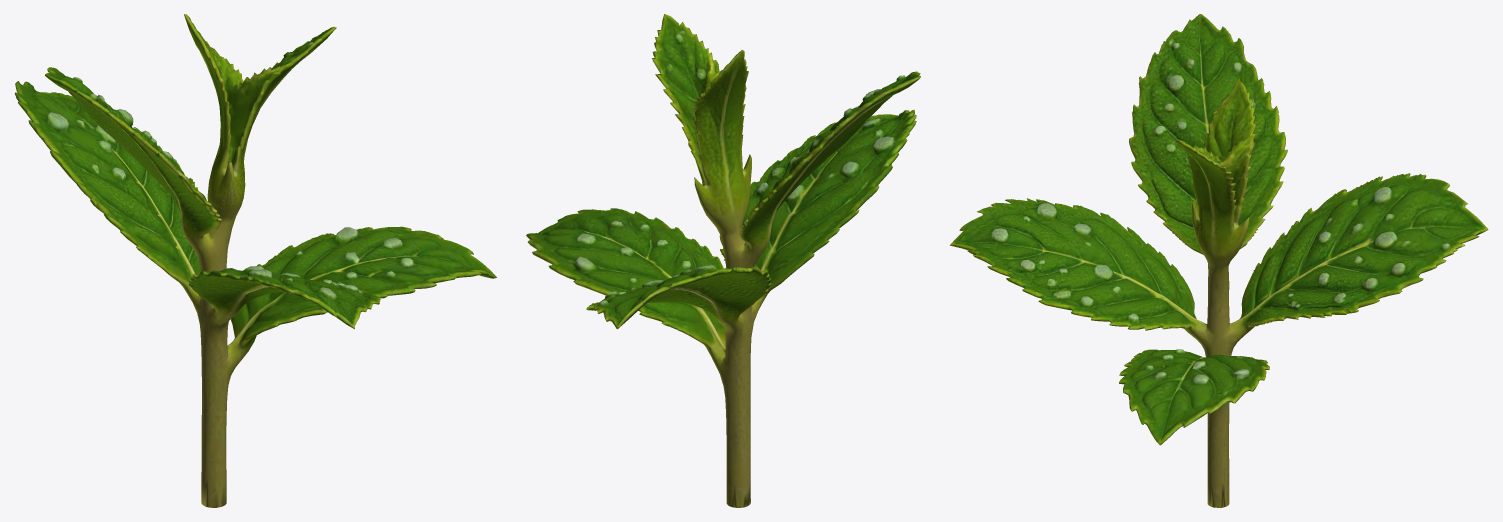
Rendered from mint.glb.
The picture shows the model from 3 angles, left to right: view 1: azimuth 30°, elevation 25°; view 2: azimuth 150°, elevation 25°; view 3: azimuth 270°, elevation 25°; orthographic projection. The views are drawn at different scales.
Parts seen in each view (by area): view 1: tripo_node_d9697de2-2418-46a4-a1f1-190a5cf3cb07; view 2: tripo_node_d9697de2-2418-46a4-a1f1-190a5cf3cb07; view 3: tripo_node_d9697de2-2418-46a4-a1f1-190a5cf3cb07.
Part boxes in pixels (box(x1,y1,x2,y2)): tripo_node_d9697de2-2418-46a4-a1f1-190a5cf3cb07: box(14, 14, 496, 507); tripo_node_d9697de2-2418-46a4-a1f1-190a5cf3cb07: box(526, 14, 920, 507); tripo_node_d9697de2-2418-46a4-a1f1-190a5cf3cb07: box(949, 14, 1488, 507).
Size of the model in its own units: 0.7815 by 0.8427 by 0.9853.
1 material, 1 textured.
